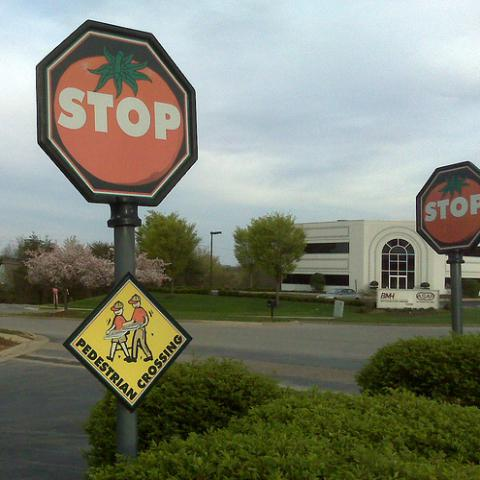car: (316, 289, 362, 300)
